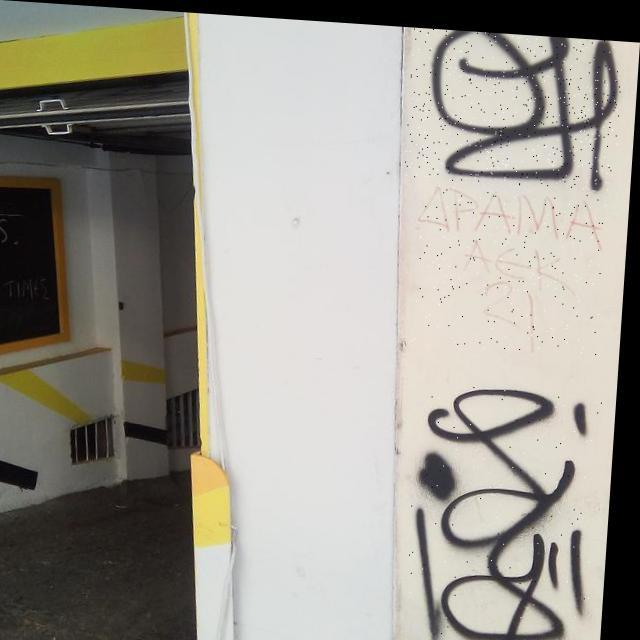-: (410, 374, 608, 640), (406, 21, 624, 182), (416, 176, 608, 348)
